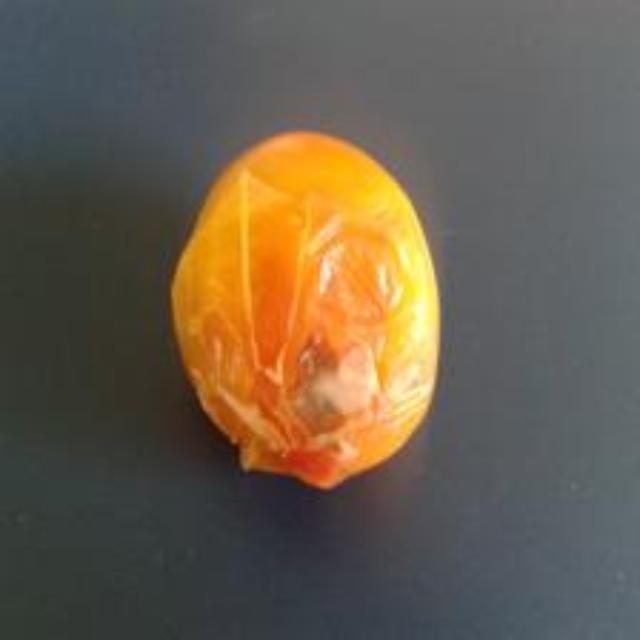defect: (166, 124, 449, 495)
